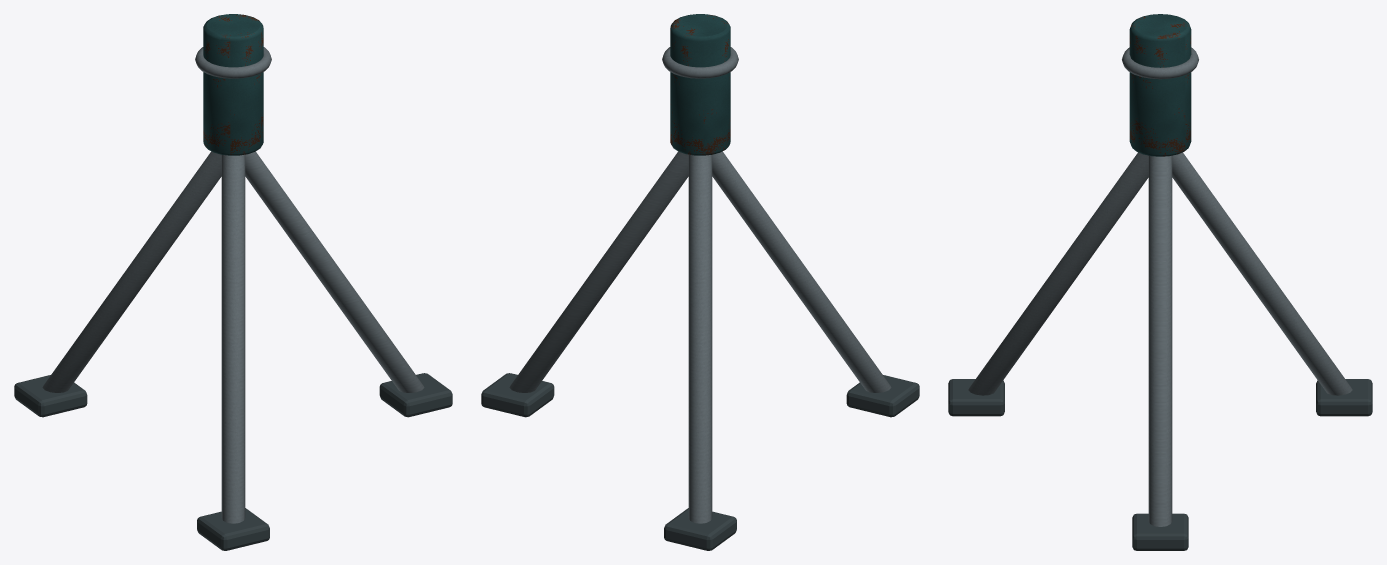
Rendered from IslandFlareMount.fbx.
3 views of the same model, side by side, from view 1: azimuth 30°, elevation 25°; view 2: azimuth 150°, elevation 25°; view 3: azimuth 270°, elevation 25° (orthographic).
Visible parts, largest first — view 1: IslandMetal_Surface.007__UnityExport, IslandOxide_Surface.006__UnityExport, IslandDark_Surface.002__UnityExport; view 2: IslandMetal_Surface.007__UnityExport, IslandOxide_Surface.006__UnityExport, IslandDark_Surface.002__UnityExport; view 3: IslandMetal_Surface.007__UnityExport, IslandOxide_Surface.006__UnityExport, IslandDark_Surface.002__UnityExport.
Part boxes in pixels (<box>): IslandMetal_Surface.007__UnityExport: <box>42,47,424,523</box>; IslandOxide_Surface.006__UnityExport: <box>203,14,263,155</box>; IslandDark_Surface.002__UnityExport: <box>14,373,452,550</box>; IslandMetal_Surface.007__UnityExport: <box>509,47,891,523</box>; IslandOxide_Surface.006__UnityExport: <box>670,14,730,155</box>; IslandDark_Surface.002__UnityExport: <box>481,373,919,550</box>; IslandMetal_Surface.007__UnityExport: <box>968,47,1352,526</box>; IslandOxide_Surface.006__UnityExport: <box>1129,14,1191,156</box>; IslandDark_Surface.002__UnityExport: <box>948,379,1372,550</box>.
Bounding box in the file's own units: 0.795 × 0.995 × 0.8994.
